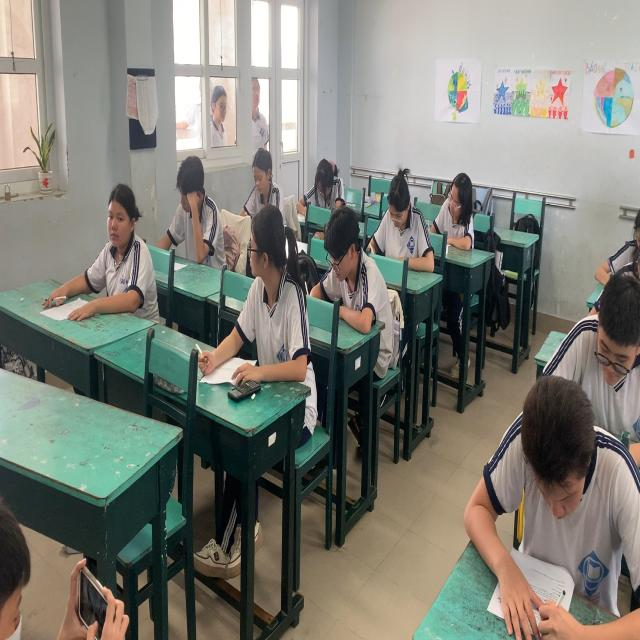cheating: (202, 196, 312, 434)
not_cheating: (46, 148, 170, 370), (490, 421, 611, 624), (290, 175, 388, 374), (143, 127, 235, 308), (563, 320, 640, 496), (366, 132, 452, 286), (409, 137, 495, 286), (210, 110, 296, 254), (283, 111, 364, 251), (599, 258, 640, 438)
